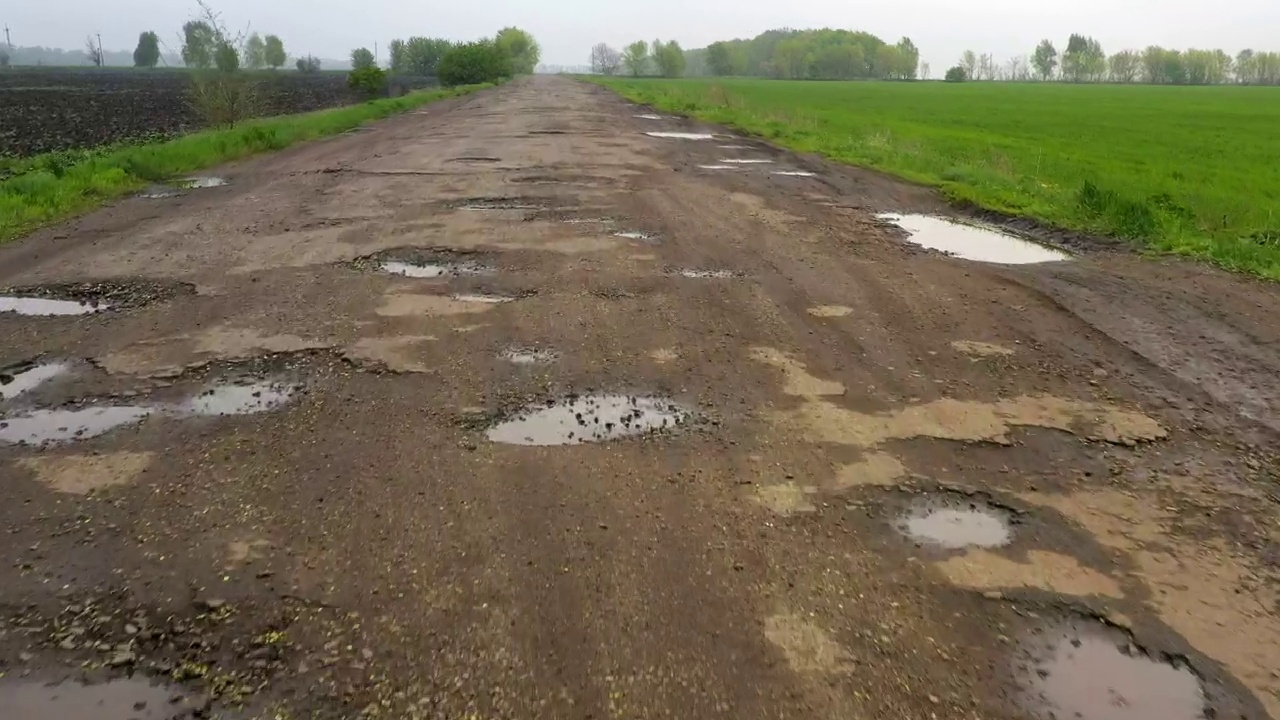pothole: (943, 593, 1280, 720), (828, 476, 1034, 563), (860, 194, 1082, 274), (463, 389, 724, 454), (0, 271, 205, 323)
